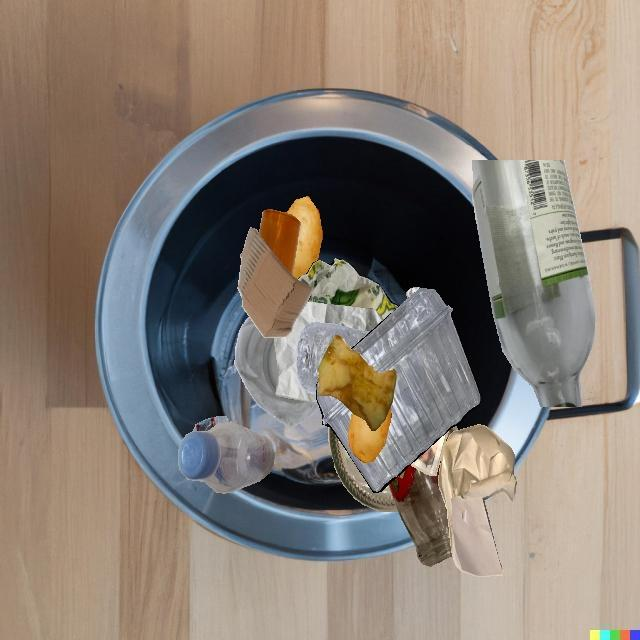biowaste: (318, 335, 397, 431), (286, 196, 323, 279), (348, 408, 391, 462)
cardboard: (238, 227, 313, 338)
glass: (472, 160, 596, 407), (389, 455, 453, 566), (329, 427, 398, 511)
paper: (438, 424, 516, 577), (275, 302, 384, 403), (297, 258, 398, 320), (410, 430, 449, 476)
plastic: (316, 288, 481, 493), (235, 316, 319, 427), (178, 421, 274, 493), (296, 322, 371, 394), (259, 209, 300, 276), (193, 416, 228, 431)
